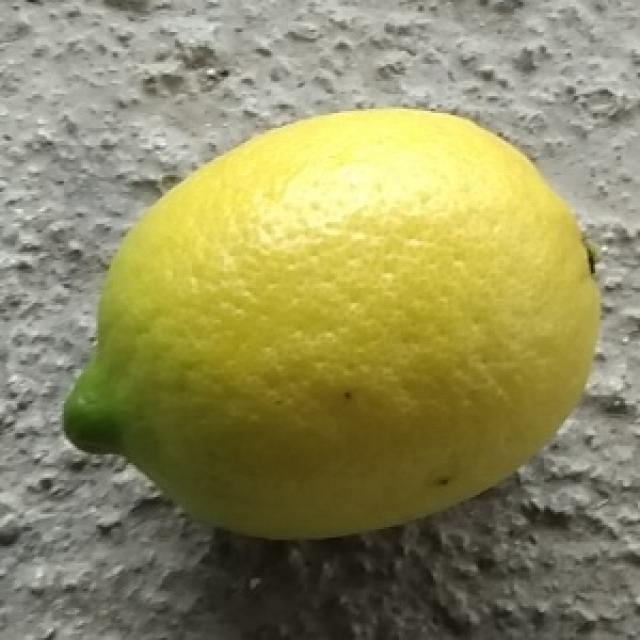Lemon: (59, 107, 599, 544)
